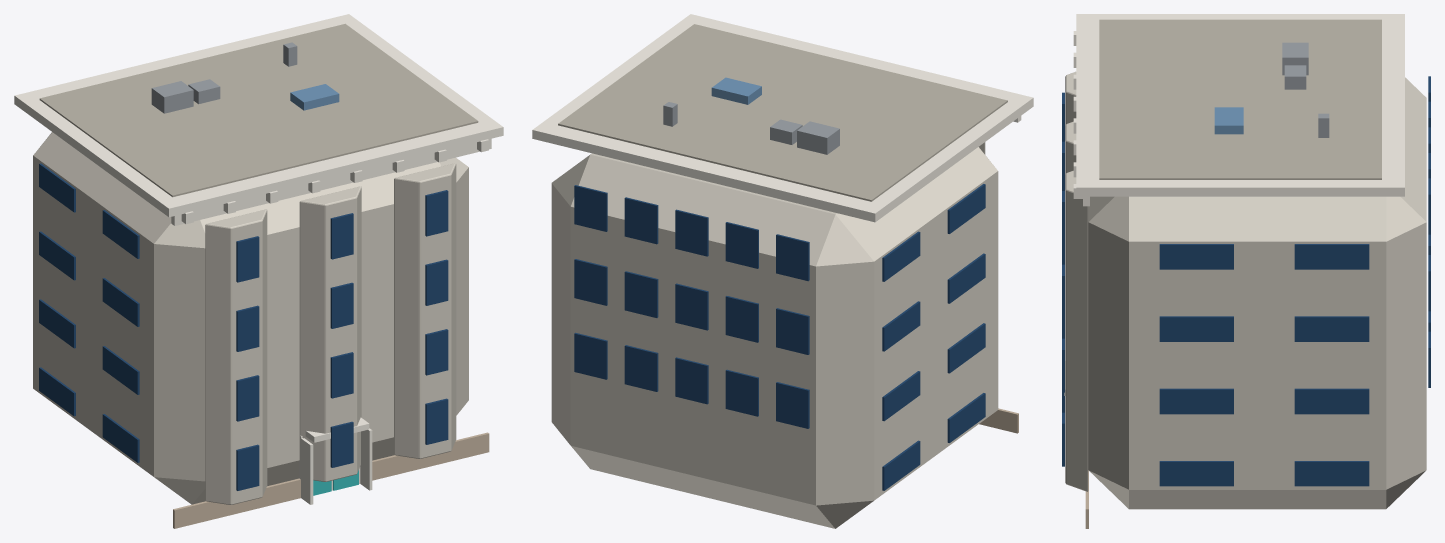
The model's file is apt_w16_f4_bays.glb.
3 renders of one model, left to right at view 1: azimuth 30°, elevation 25°; view 2: azimuth 150°, elevation 25°; view 3: azimuth 270°, elevation 25°, orthographic. The views are drawn at different scales.
Visible parts, largest first — view 1: walls, roofslab, corn, bay, bay.002, bay.001, bsmt, frieze, hvac, bw.008, bw.010, bw.011 (+21 smaller); view 2: walls, roofslab, corn, win.013, win.003, win.008, win, win.001, win.004, win.009, win.010, win.014 (+18 smaller); view 3: walls, roofslab, corn, bay.002, sb.007, sb.005, sb.011, sb.015, sb.003, sb.009, sb.013, sb.001 (+5 smaller).
Part boxes in pixels (<box>): walls: <box>33,132,468,504</box>; roofslab: <box>39,23,478,197</box>; corn: <box>14,14,503,217</box>; bay: <box>205,209,267,504</box>; bay.002: <box>394,163,456,458</box>; bay.001: <box>299,186,361,481</box>; bsmt: <box>173,432,489,528</box>; frieze: <box>171,138,491,225</box>; hvac: <box>151,81,193,113</box>; bw.008: <box>425,398,448,444</box>; bw.010: <box>425,259,448,305</box>; bw.011: <box>425,190,448,236</box>; walls: <box>551,147,998,528</box>; roofslab: <box>558,24,1007,201</box>; corn: <box>532,14,1033,222</box>; win.013: <box>624,197,658,244</box>; win.003: <box>624,345,658,391</box>; win.008: <box>624,271,658,317</box>; win: <box>776,382,809,428</box>; win.001: <box>725,369,758,416</box>; win.004: <box>574,332,607,379</box>; win.009: <box>574,259,607,305</box>; win.010: <box>776,234,809,281</box>; win.014: <box>574,185,607,231</box>; walls: <box>1088,77,1426,509</box>; roofslab: <box>1099,19,1381,179</box>; corn: <box>1076,14,1404,196</box>; bay.002: <box>1065,170,1088,491</box>; sb.007: <box>1294,388,1369,414</box>; sb.005: <box>1159,388,1233,414</box>; sb.011: <box>1294,316,1369,341</box>; sb.015: <box>1294,244,1369,269</box>; sb.003: <box>1294,461,1369,486</box>; sb.009: <box>1159,316,1233,341</box>; sb.013: <box>1159,244,1233,269</box>; sb.001: <box>1159,461,1233,486</box>.
Bounding box in the file's own units: 17 × 16.8 × 15.26.
